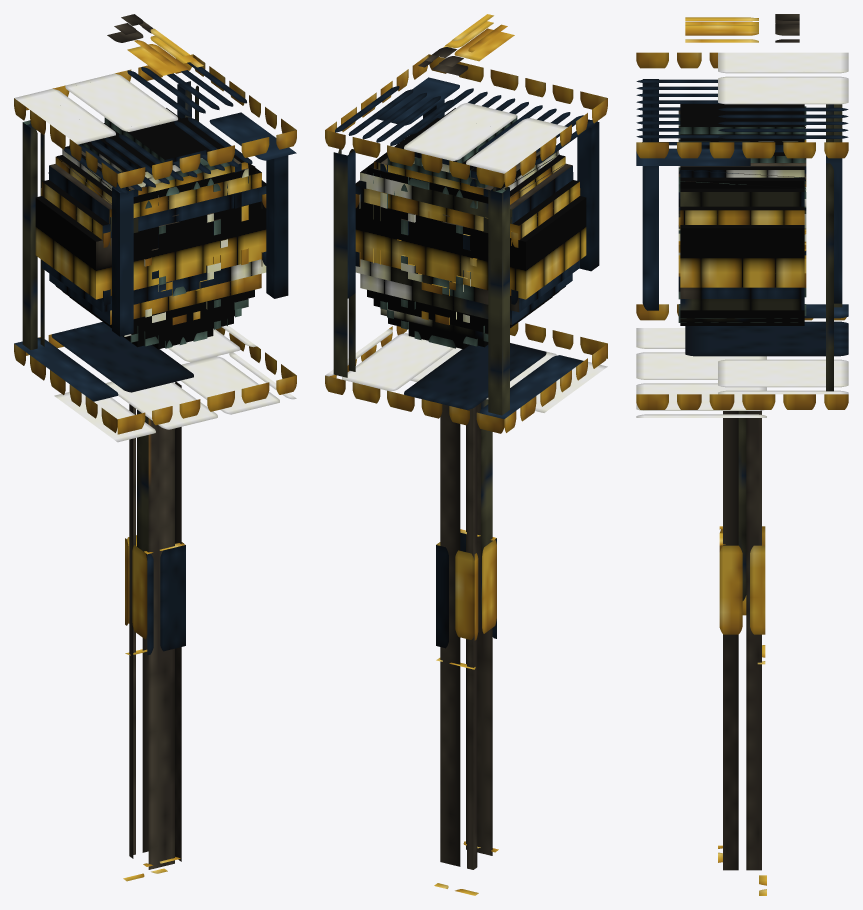
The model's file is lamp.obj.
3 renders of one model, left to right at view 1: azimuth 30°, elevation 25°; view 2: azimuth 150°, elevation 25°; view 3: azimuth 270°, elevation 25°, orthographic. The views are drawn at different scales.
Visible parts, largest first — view 1: lit, fire; view 2: lit, fire; view 3: lit, fire.
Part boxes in pixels (left/top/right/bottom): lit: left=14, top=14, right=296, bottom=881; fire: left=35, top=108, right=266, bottom=349; lit: left=325, top=14, right=607, bottom=895; fire: left=355, top=108, right=586, bottom=349; lit: left=636, top=14, right=848, bottom=895; fire: left=680, top=104, right=804, bottom=325.
Bounding box in the file's own units: 0.8157 × 3.66 × 0.8125.
